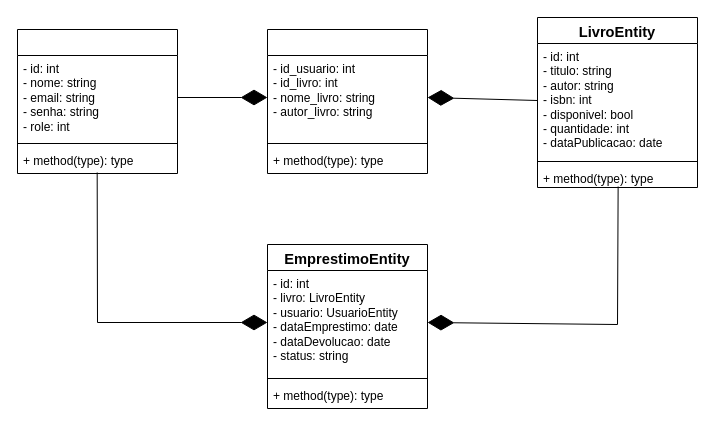
Some shapes in this 715 by 429 pixel diagram are drawn without their labels. The shapes that lost their labels are listed below. From the top down, each one's box as (x1, y1, x2, y2) in pixels, then its label:
(16, 28, 178, 174): UsuarioEntity
(266, 28, 428, 174): Classname
